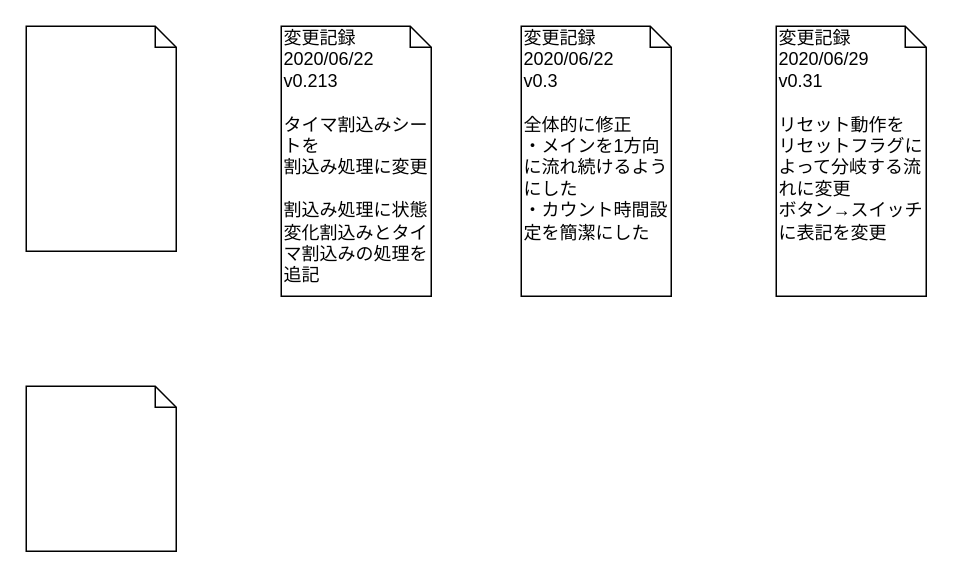
The diagram is 953 pixels wide and 578 high, and some of its shapes have lost their labels. The shapes that lost their labels are listed below. From the top down, each one's box as (x1, y1, x2, y2) in pixels, then its label:
(25, 25, 176, 251): 変更記録 2020/06/22 v0.21 フローチャートのファイルをクラスごとに分割 カウント時間設定を修正
(25, 385, 176, 551): 変更記録 2020/06/29 v0.4 外部割込み を IOC割込みへ変更
